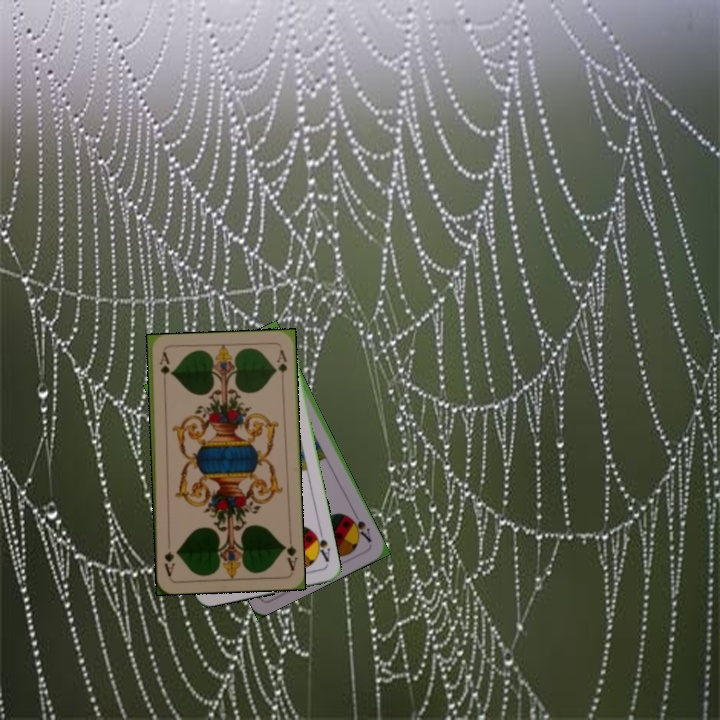GA: (279, 533, 299, 573), (156, 349, 171, 389)
SA: (345, 511, 374, 545), (309, 526, 333, 564)
